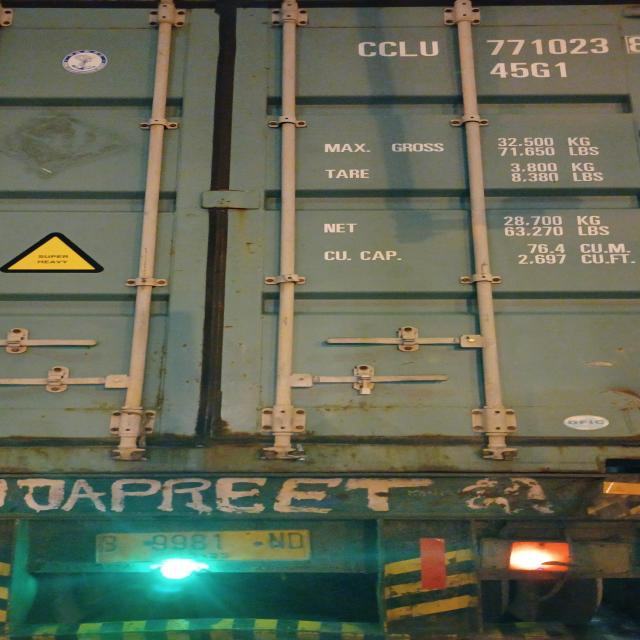seal: (283, 443, 314, 462), (353, 375, 380, 396)
